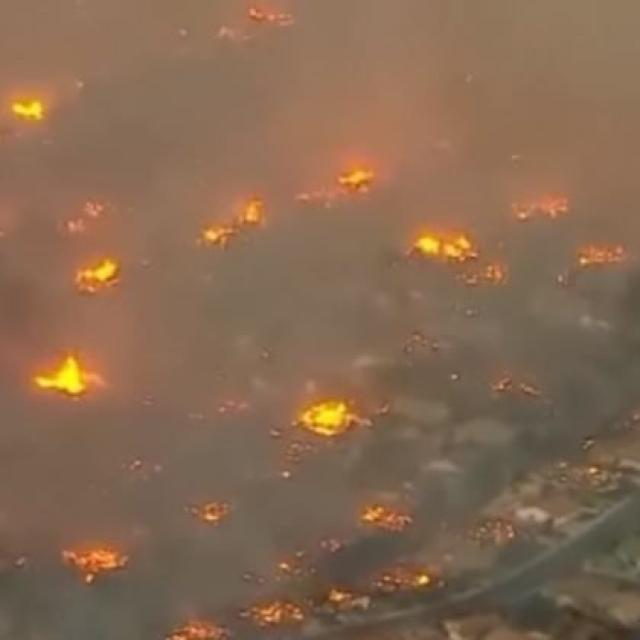Smoke: (32, 3, 640, 197)
